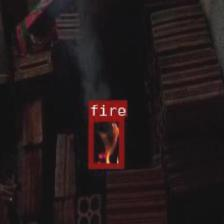fire: (88, 116, 123, 168)
